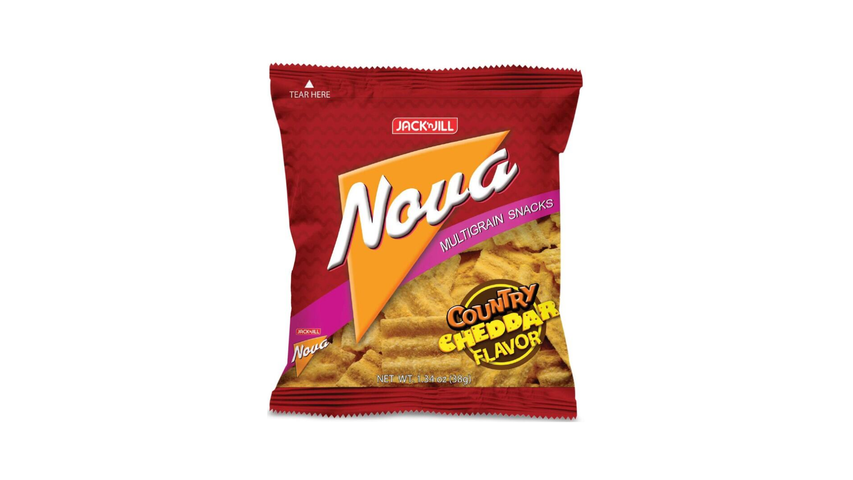non-toxic_waste: (267, 66, 584, 416)
